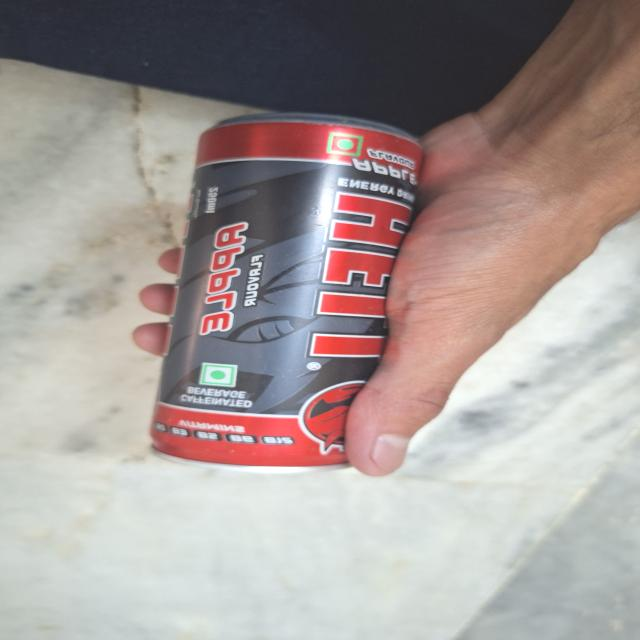Hell Apple: (90, 126, 452, 458)
